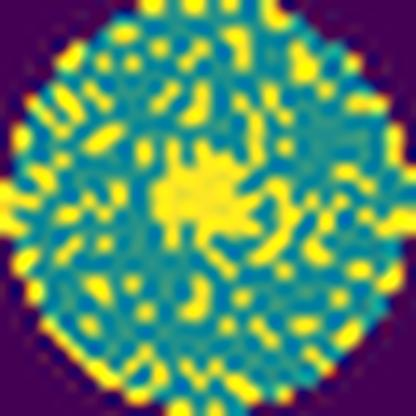Center: (151, 138, 270, 249)
